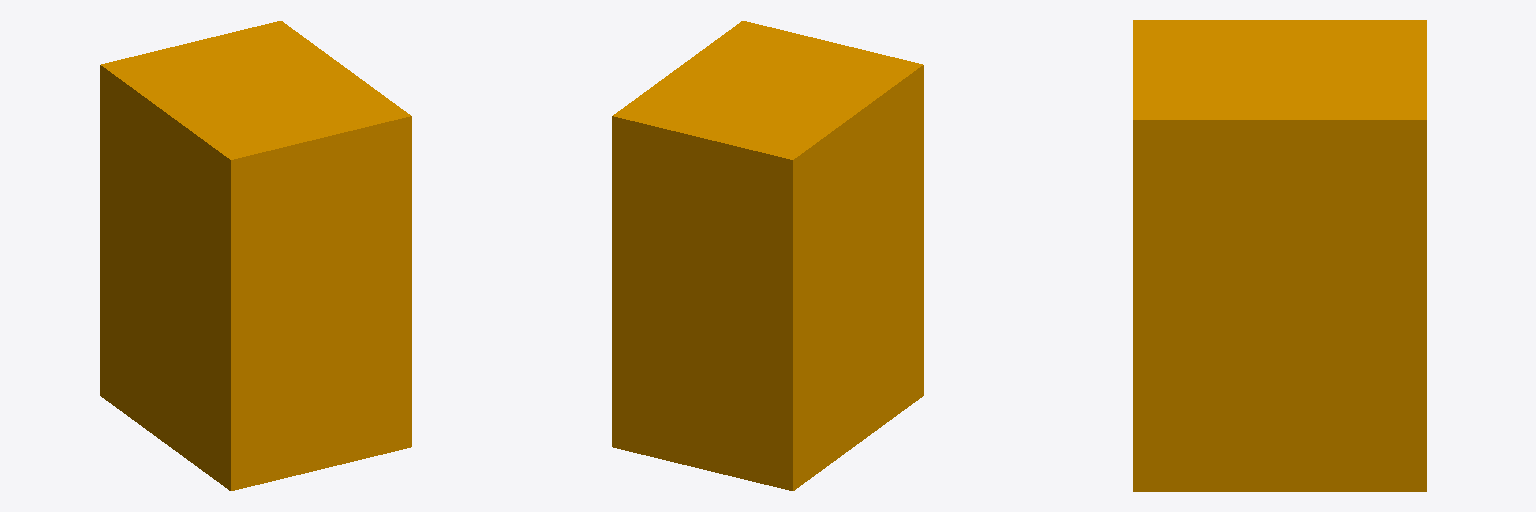
URDF robot description (object):
<?xml version="0.0"?>
	<robot name="object">
		<link name="object">
			<visual>
				<origin xyz="0 0 0"/>
				<geometry>
					<box size="0.4 0.5 0.7"/>
				</geometry>
			</visual>
			<inertial>
				<mass value="14.000"/>
			</inertial>
			<collision>
				<origin xyz="0 0 0"/>
				<geometry>
					<box size="0.4 0.5 0.7"/>
				</geometry>
			</collision>
		</link>

	</robot>

--- Facts derived from the render (not from the file) ---
Views: 3 orthographic renders of the robot side by side, from view 1: azimuth 30°, elevation 25°; view 2: azimuth 150°, elevation 25°; view 3: azimuth 270°, elevation 25°.
Robot: object — 1 links, 0 joints (none); root link object; default pose: every joint at zero.
Links seen in each view (by area): view 1: object; view 2: object; view 3: object.
Link boxes in pixels (bbox=[...]): object: bbox=[100, 21, 411, 490]; object: bbox=[612, 21, 923, 490]; object: bbox=[1133, 20, 1426, 491].
Size in the robot's own frame: 0.4 by 0.5 by 0.7 metres.
Geometry: primitives only (box / cylinder / sphere), no mesh files.